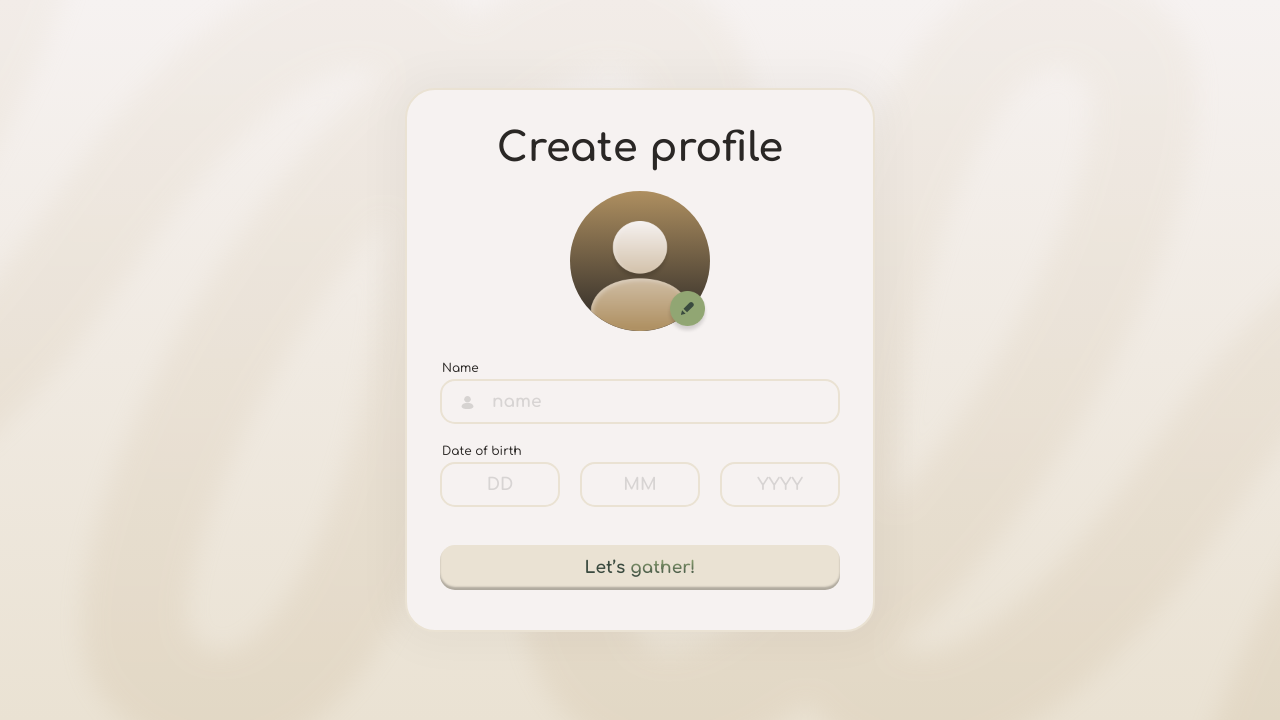
Test case: Create profile page › shows the date errors with the exact wording
The width and height of the screenshot is (1280, 720).
Type "Mild" into the field labelled "Name" at (640, 402), box top-left (440, 379), bottom-right (840, 424)
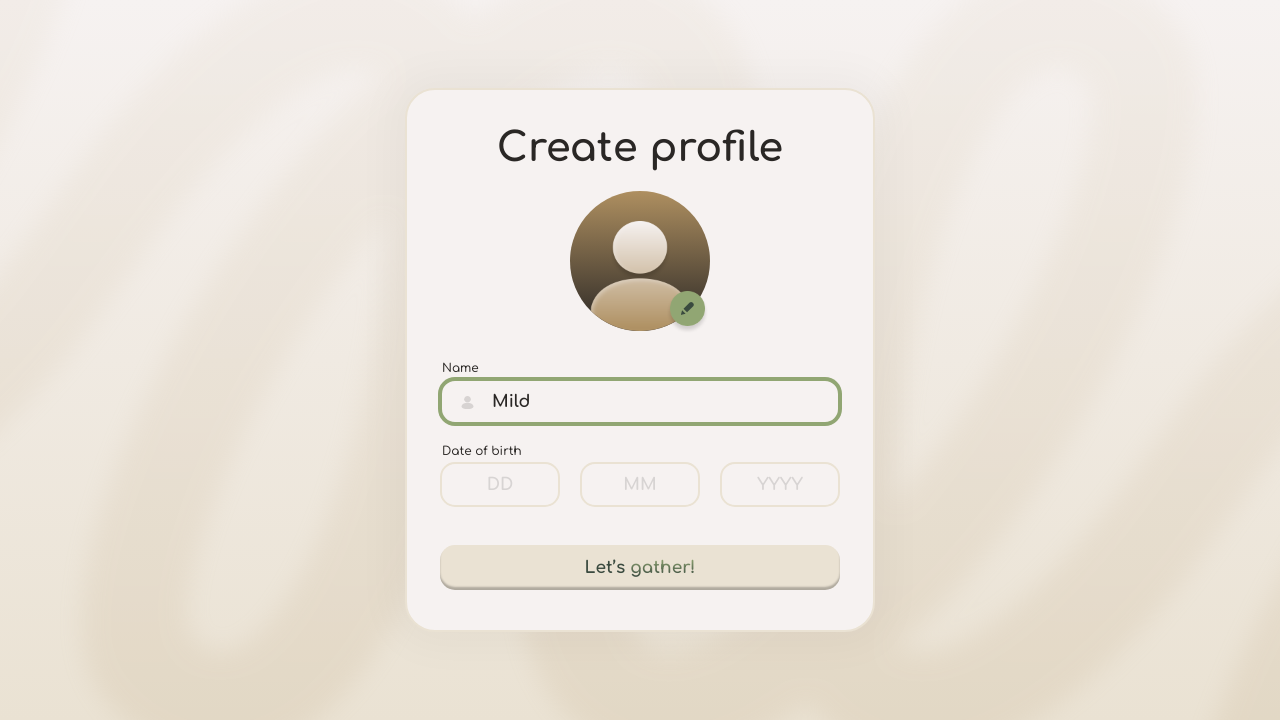
Type "31" into the field named "Day" at (500, 484), box top-left (440, 462), bottom-right (560, 507)
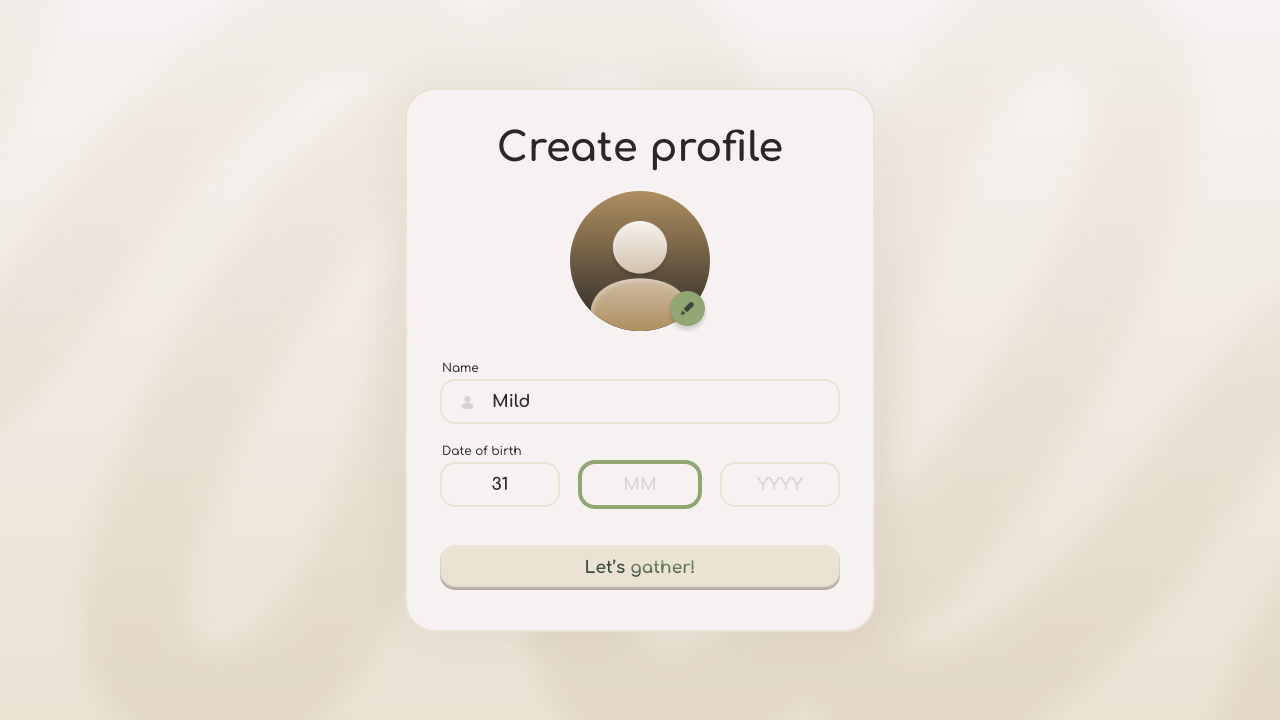
Click the button "Let’s gather!" at (640, 568), box top-left (440, 545), bottom-right (840, 590)
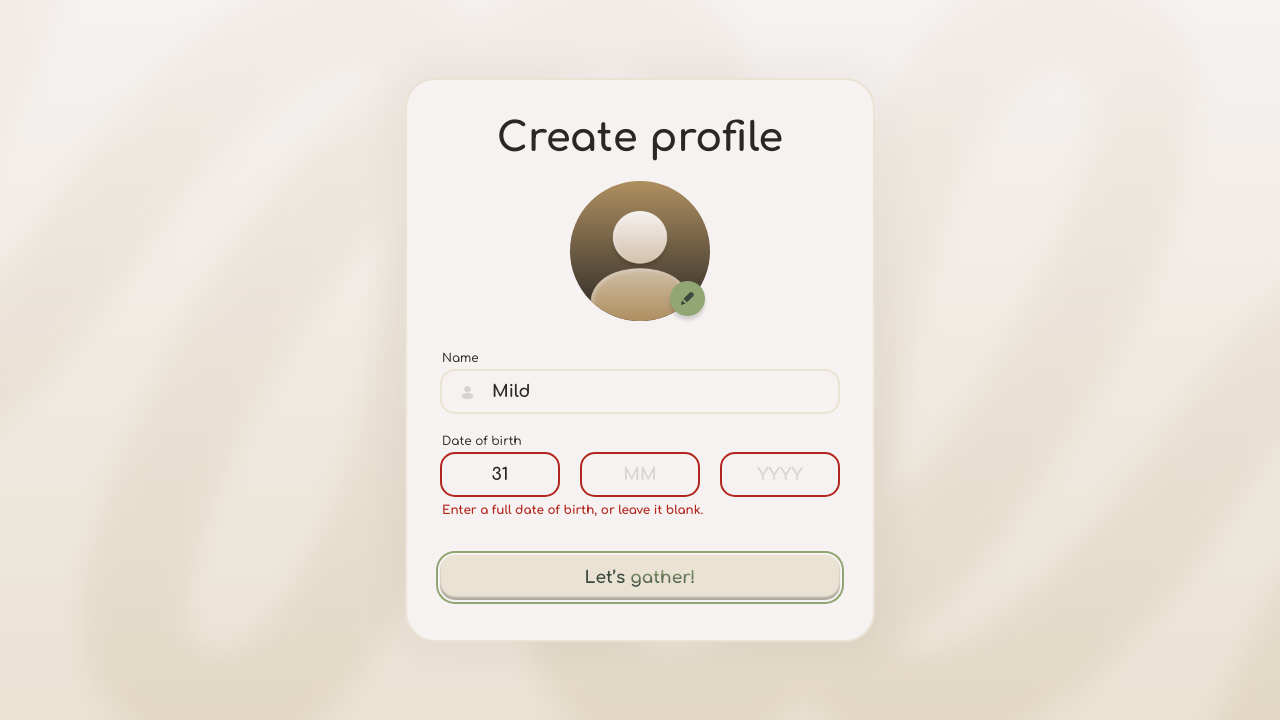
Expected: the text "Enter a full date of birth, or leave it blank." is shown, top-left (442, 503), bottom-right (703, 517)
Type "02" into the field named "Month" at (640, 474), box top-left (580, 452), bottom-right (700, 497)
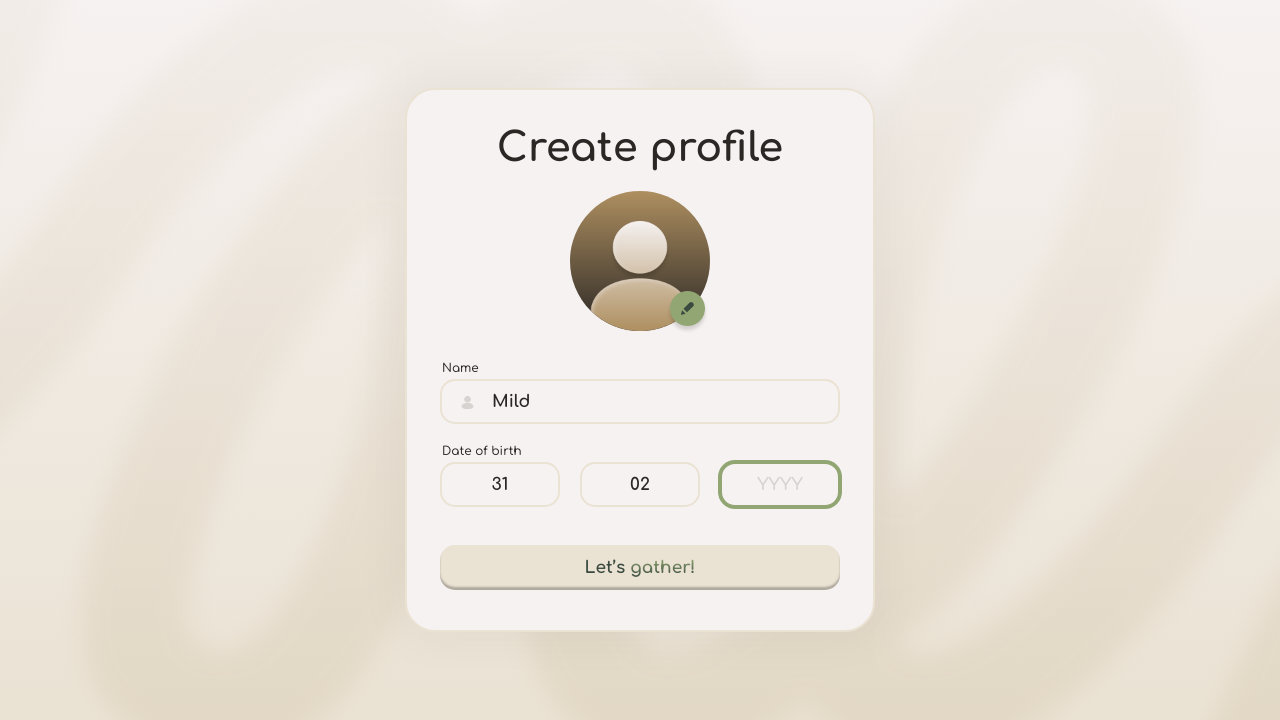
Type "2000" into the field named "Year" at (780, 484), box top-left (720, 462), bottom-right (840, 507)
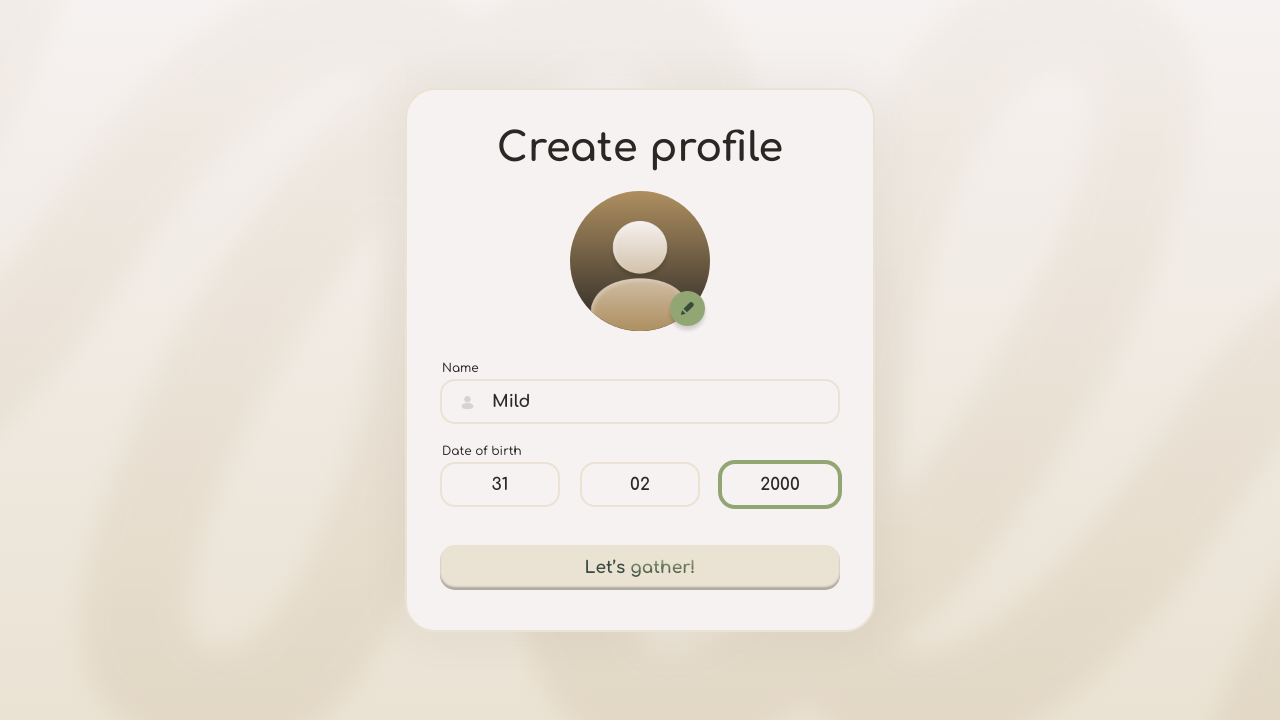
Click the button "Let’s gather!" at (640, 568), box top-left (440, 545), bottom-right (840, 590)
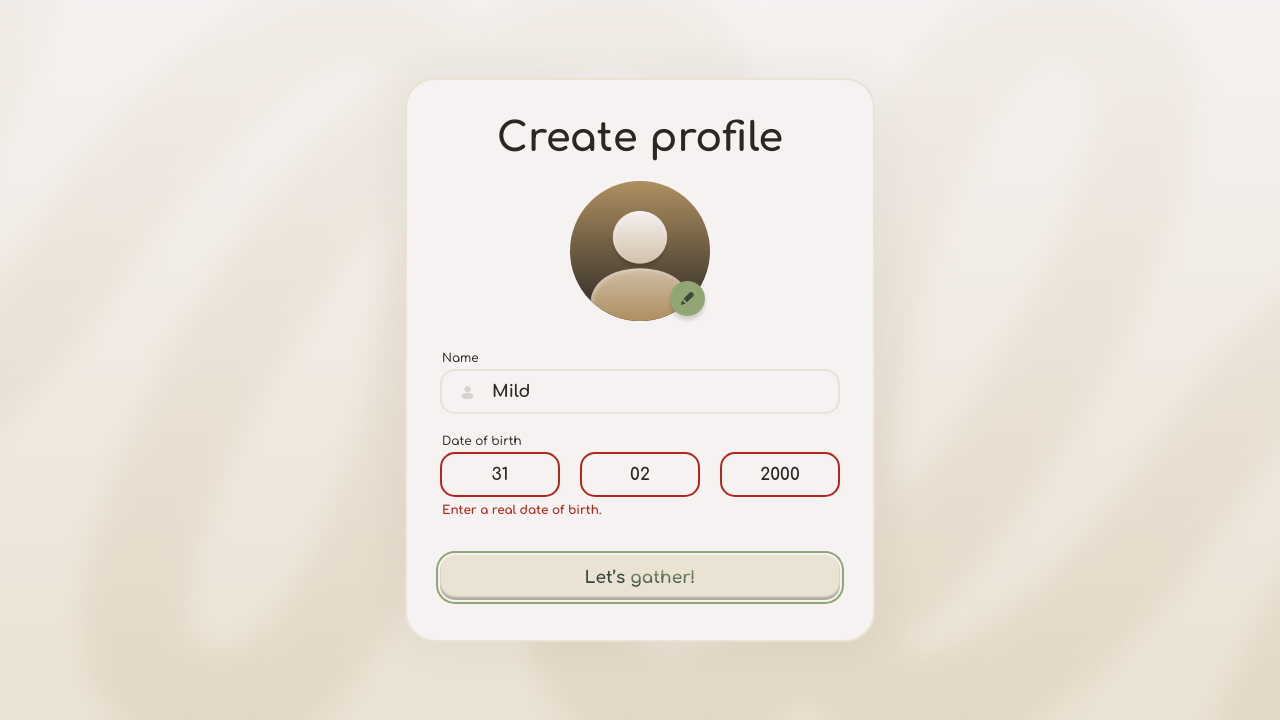
Expected: the text "Enter a real date of birth." is shown, top-left (442, 503), bottom-right (602, 517)
